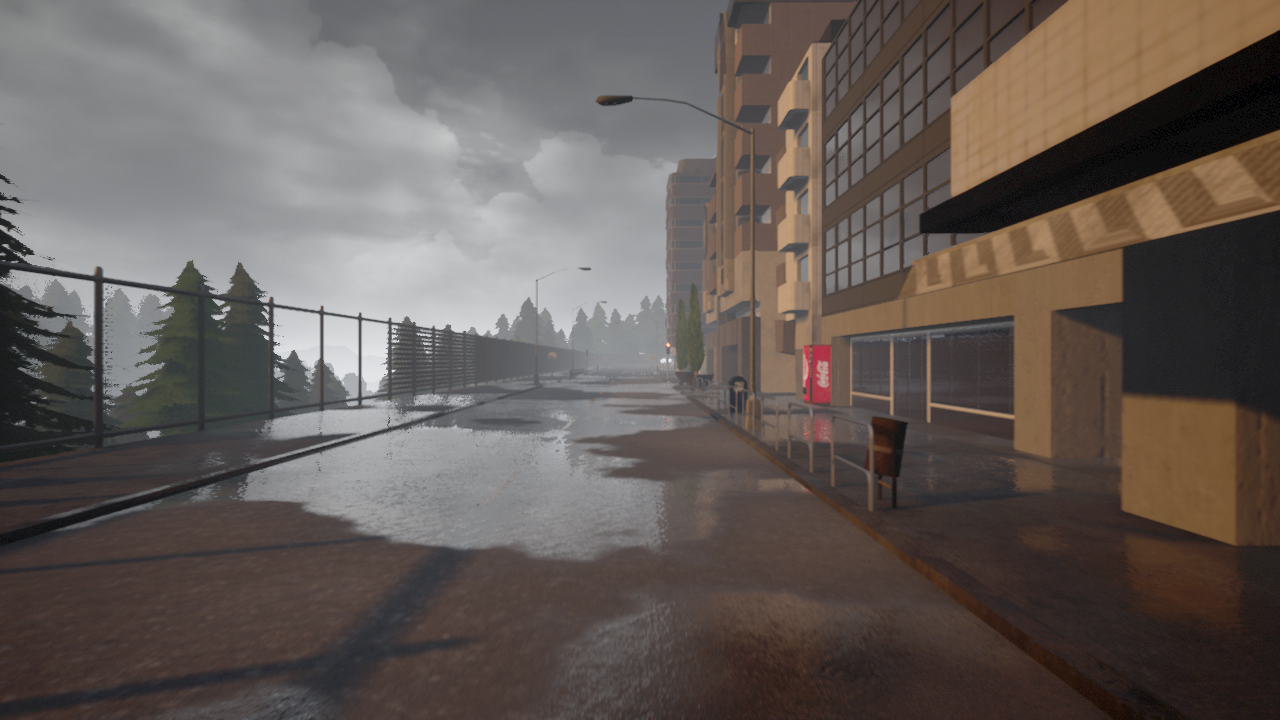red: (665, 342, 671, 353)
